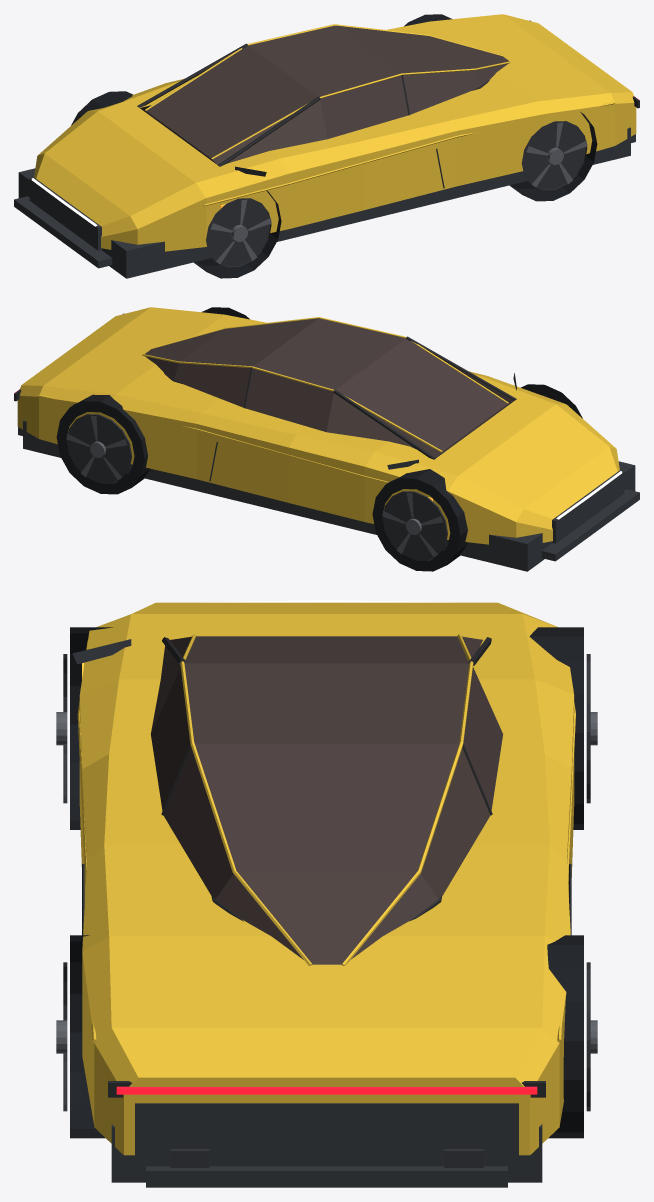
The model's file is roadster_06_yellow.glb.
3 renders of one model, top to bottom at view 1: azimuth 30°, elevation 25°; view 2: azimuth 150°, elevation 25°; view 3: azimuth 270°, elevation 25°, orthographic. The views are drawn at different scales.
Parts seen in each view (by area): view 1: Web mesh - Ano White satin.007, Smoked panoramic canopy, Web mesh - Graphite lower aero.007, Web mesh - Hub center.007, Web mesh - Tire rubber.007, Web mesh - Wheel dark alloy.007, Web mesh - Dark window trim.007; view 2: Web mesh - Ano White satin.007, Smoked panoramic canopy, Web mesh - Graphite lower aero.007, Web mesh - Tire rubber.007, Web mesh - Hub center.007, Web mesh - Wheel dark alloy.007, Web mesh - Dark window trim.007; view 3: Web mesh - Ano White satin.007, Smoked panoramic canopy, Web mesh - Graphite lower aero.007, Web mesh - Tire rubber.007, Web mesh - Hub center.007, Web mesh - Rear light red.007, Web mesh - Dark window trim.007, Web mesh - Wheel dark alloy.007.
Boxes of the visible parts, left/top/right/bottom form: Web mesh - Ano White satin.007: left=34, top=14, right=636, bottom=251; Smoked panoramic canopy: left=140, top=25, right=508, bottom=164; Web mesh - Graphite lower aero.007: left=14, top=127, right=635, bottom=278; Web mesh - Hub center.007: left=206, top=121, right=587, bottom=267; Web mesh - Tire rubber.007: left=71, top=14, right=597, bottom=278; Web mesh - Wheel dark alloy.007: left=210, top=122, right=587, bottom=264; Web mesh - Dark window trim.007: left=137, top=20, right=639, bottom=166; Web mesh - Ano White satin.007: left=17, top=307, right=619, bottom=544; Smoked panoramic canopy: left=145, top=318, right=514, bottom=457; Web mesh - Graphite lower aero.007: left=18, top=373, right=639, bottom=571; Web mesh - Tire rubber.007: left=56, top=307, right=582, bottom=571; Web mesh - Hub center.007: left=66, top=395, right=556, bottom=560; Web mesh - Wheel dark alloy.007: left=66, top=395, right=544, bottom=557; Web mesh - Dark window trim.007: left=14, top=313, right=516, bottom=459; Web mesh - Ano White satin.007: left=77, top=602, right=575, bottom=1155; Smoked panoramic canopy: left=150, top=636, right=503, bottom=964; Web mesh - Graphite lower aero.007: left=72, top=639, right=571, bottom=1187; Web mesh - Tire rubber.007: left=70, top=627, right=583, bottom=1138; Web mesh - Hub center.007: left=63, top=654, right=590, bottom=1167; Web mesh - Rear light red.007: left=116, top=1086, right=537, bottom=1094; Web mesh - Dark window trim.007: left=108, top=637, right=545, bottom=1097; Web mesh - Wheel dark alloy.007: left=56, top=712, right=597, bottom=1053.
Size of the model in its own units: 5.05 by 1.21 by 2.21.
